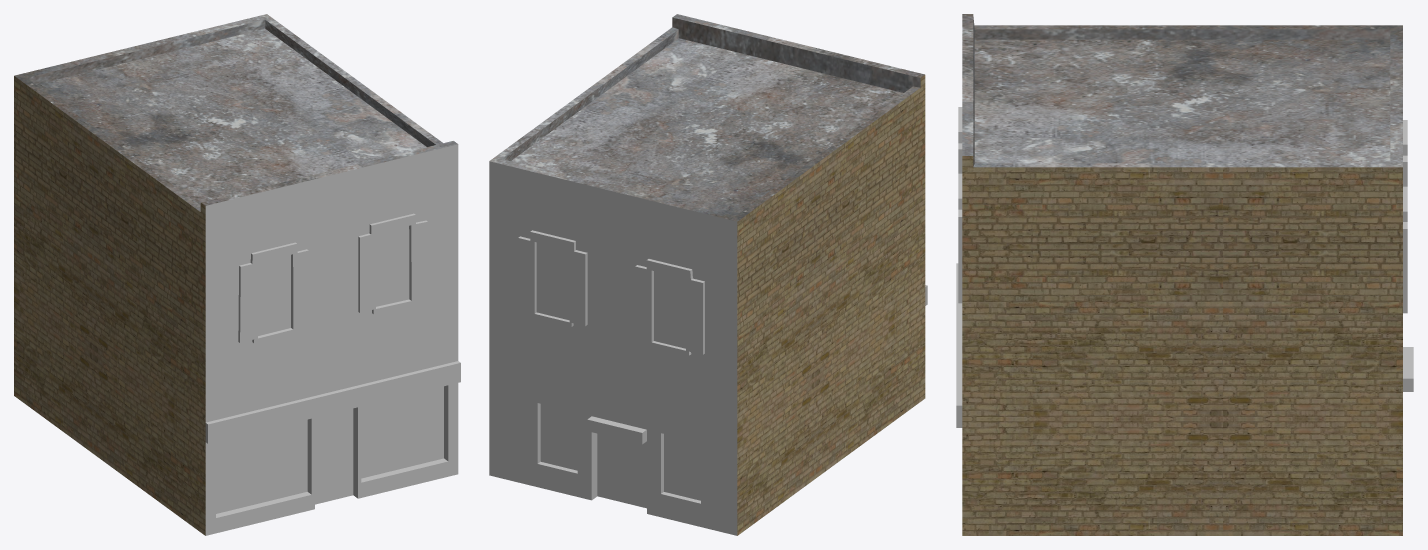
3 renders of one model, left to right at view 1: azimuth 30°, elevation 25°; view 2: azimuth 150°, elevation 25°; view 3: azimuth 270°, elevation 25°, orthographic. The views are drawn at different scales.
Parts seen in each view (by area): view 1: B027; view 2: B027; view 3: B027.
Boxes of the visible parts, x1,y1,x2,y2 form: B027: (14, 14, 460, 535); B027: (489, 14, 927, 535); B027: (956, 14, 1413, 535).
Size of the model in its own units: 1008 by 1257 by 1371.
